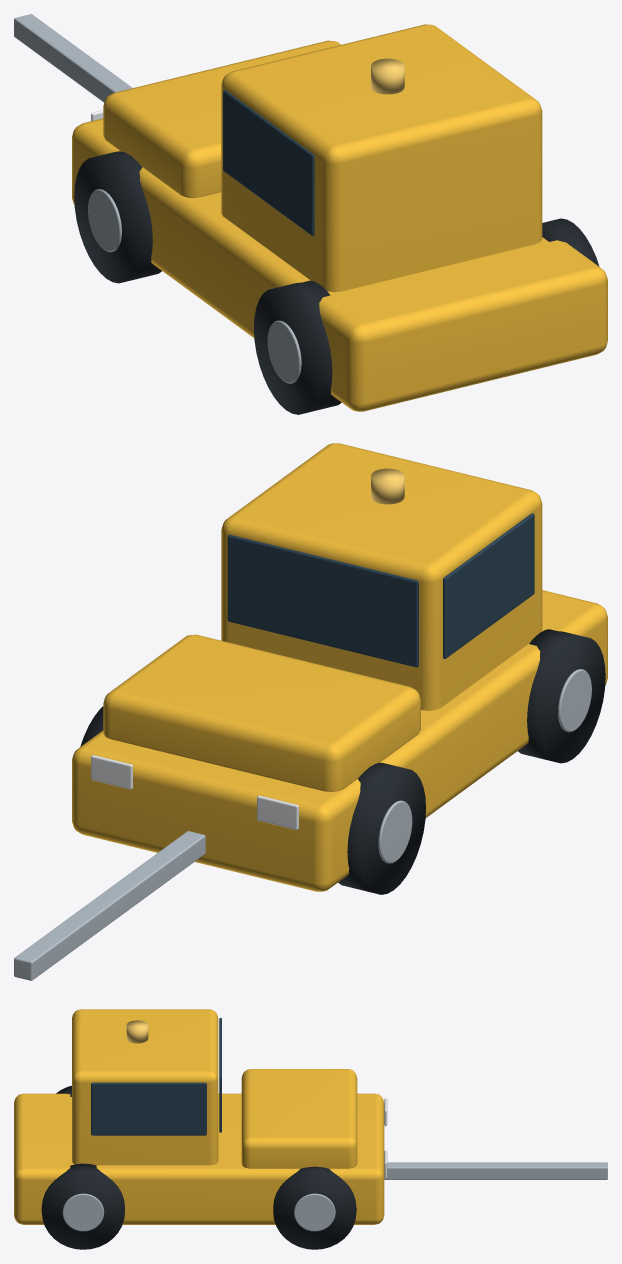
The model's file is Tug.glb.
3 renders of one model, top to bottom at view 1: azimuth 30°, elevation 25°; view 2: azimuth 150°, elevation 25°; view 3: azimuth 270°, elevation 25°, orthographic. The views are drawn at different scales.
Parts seen in each view (by area): view 1: Cabin, Tug wheel, Side window, Towbar, Beacon; view 2: Cabin, Side window, Tug wheel, Towbar, Headlight, Beacon; view 3: Cabin, Tug wheel, Side window, Towbar, Beacon.
Boxes of the visible parts, x1,y1,x2,y2 form: Cabin: (72,24,607,411); Tug wheel: (74,151,599,414); Side window: (223,90,314,235); Towbar: (14,14,301,383); Beacon: (371,58,404,94); Cabin: (72,443,607,891); Side window: (227,513,534,667); Tug wheel: (80,629,605,894); Towbar: (14,669,591,980); Headlight: (91,755,298,829); Beacon: (371,468,404,504); Cabin: (14,1009,384,1224); Tug wheel: (41,1085,356,1249); Side window: (91,1018,221,1135); Towbar: (62,1162,607,1231); Beacon: (126,1020,148,1043).
Size of the model in its own units: 2.83 by 2.57 by 7.7.
